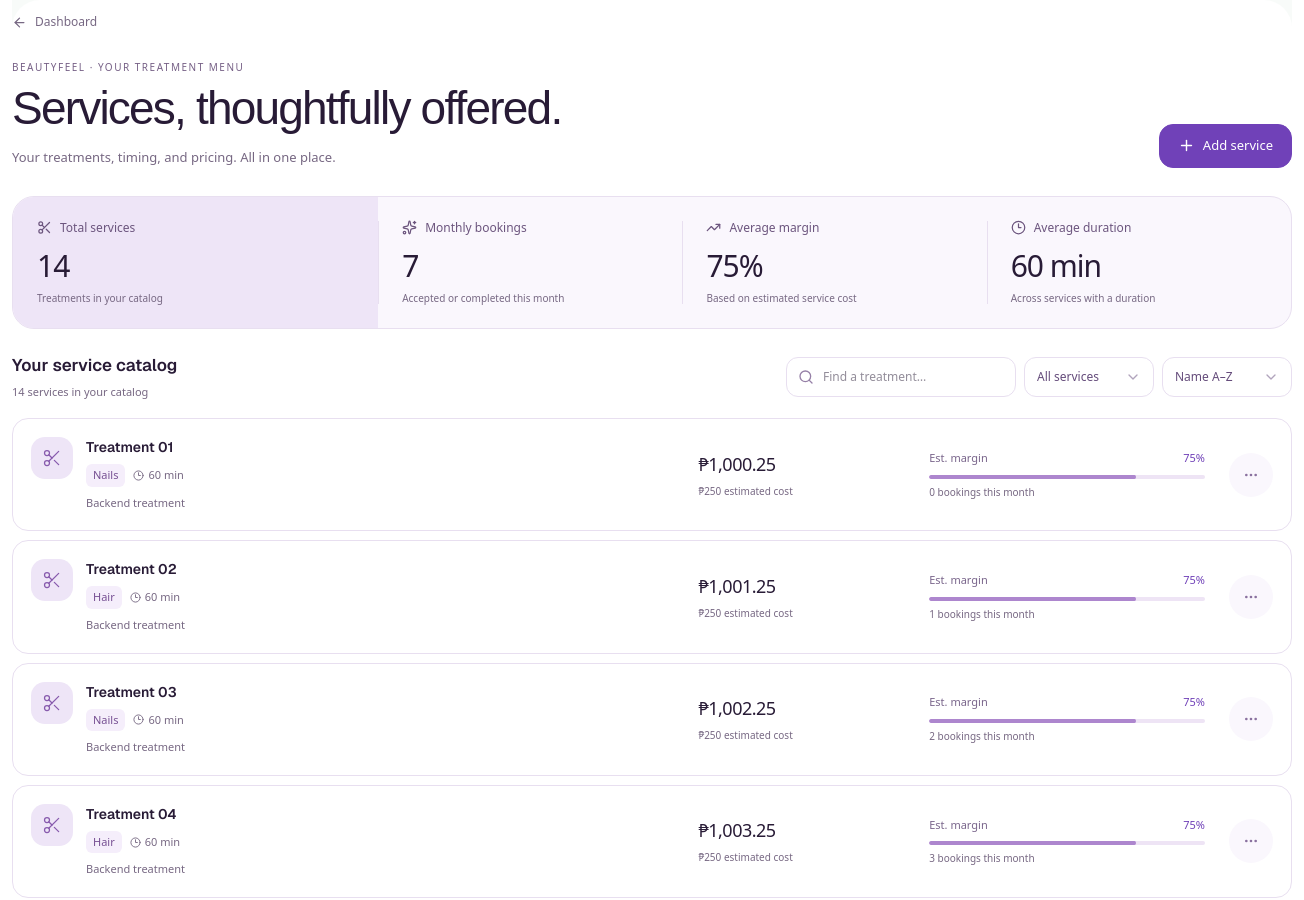
Scenario: redesign services catalog › searches the complete catalog and offers a recoverable empty state
Type "Treatment 14" into the field named "Search services". click: (901, 377)
box: 786,357 -> 1016,397
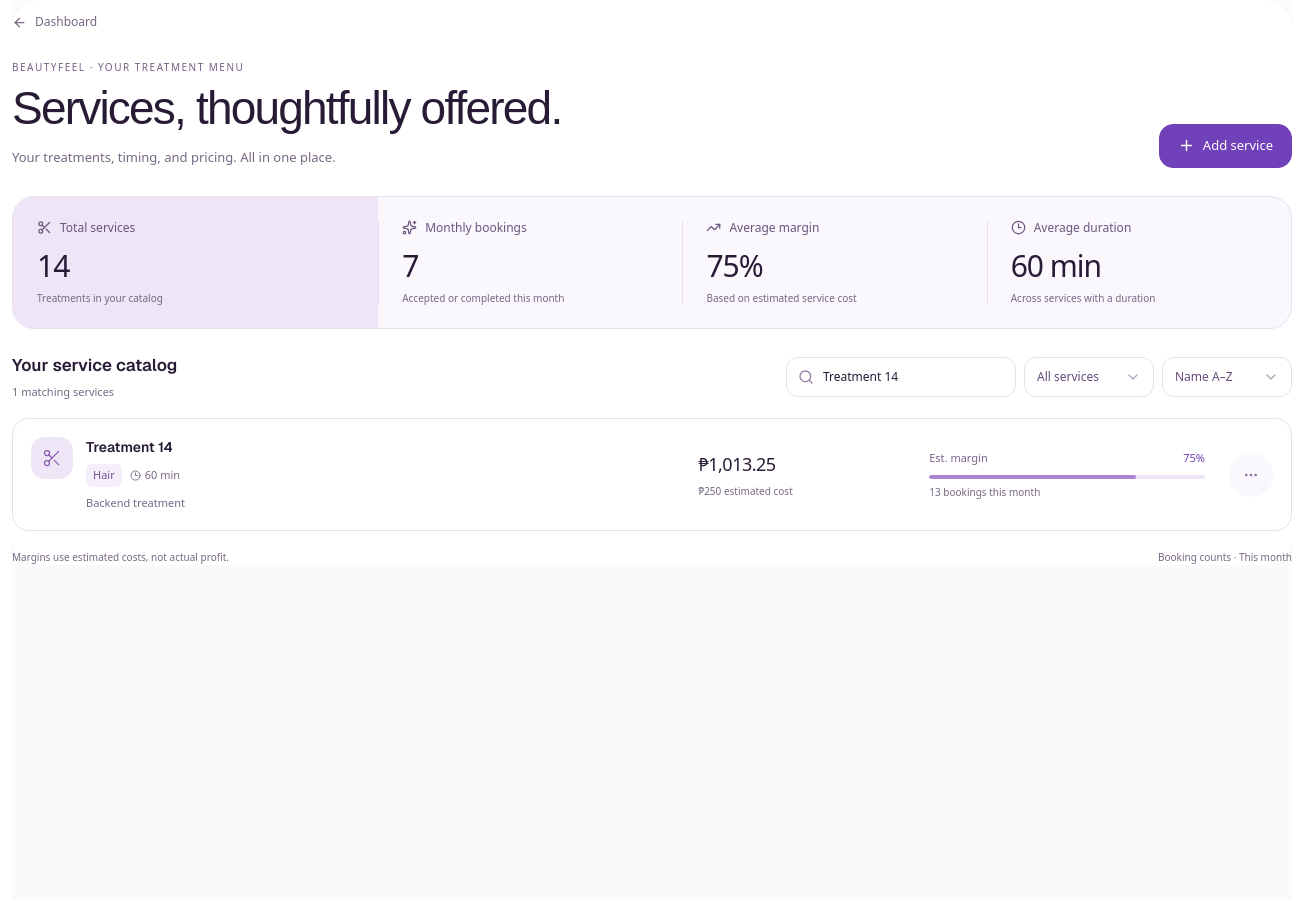
Expected: the number of list items is 1, 12,418 -> 1292,531
Expected: the heading "Treatment 14" is shown, 86,437 -> 185,458
Replace the text in the field named "Search services" with "not-found". click: (901, 377)
box: 786,357 -> 1016,397
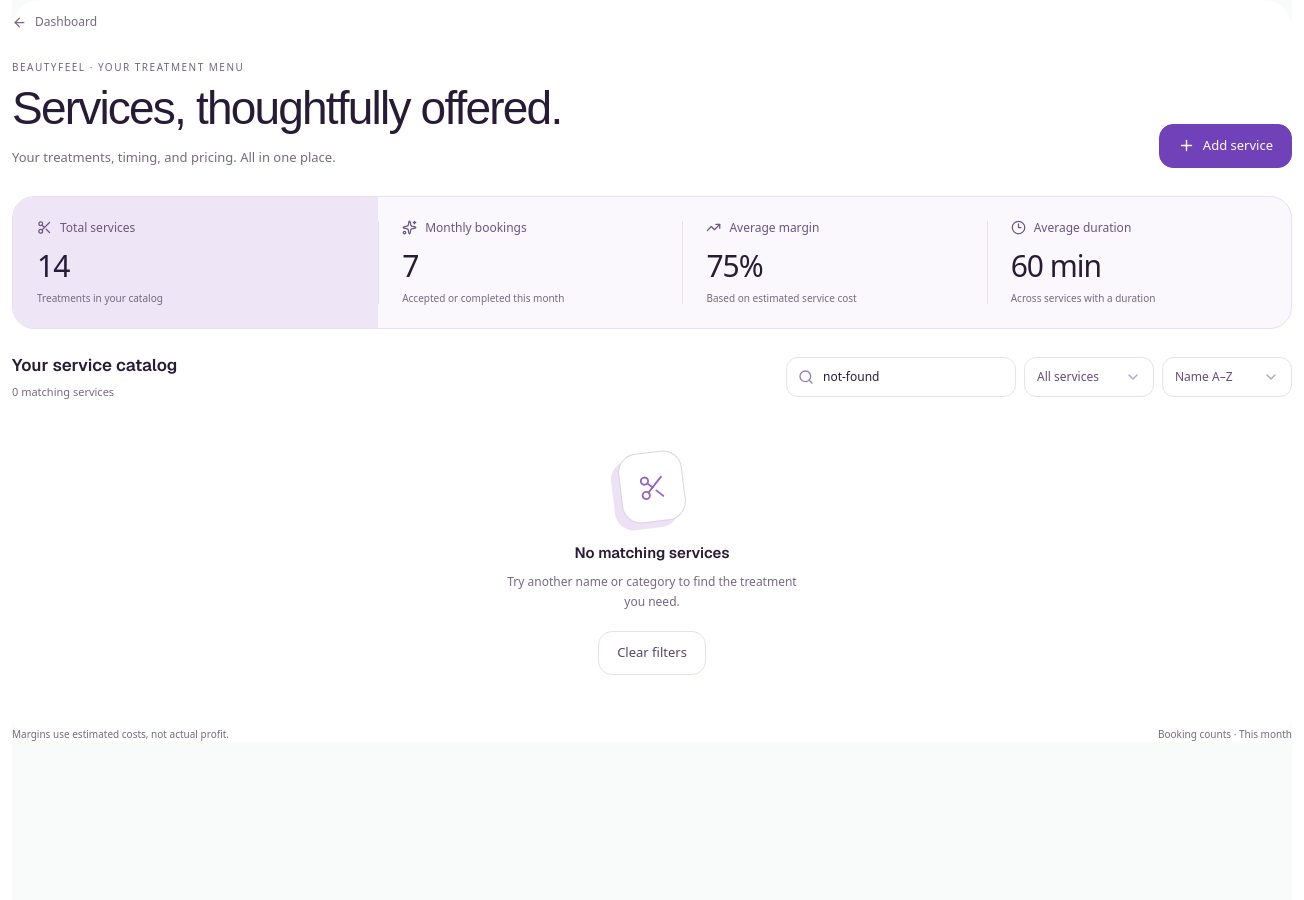
Expected: the heading "No matching services" is shown, 574,542 -> 730,562
Click the button "Clear filters". click: (652, 653)
box: 598,631 -> 706,675
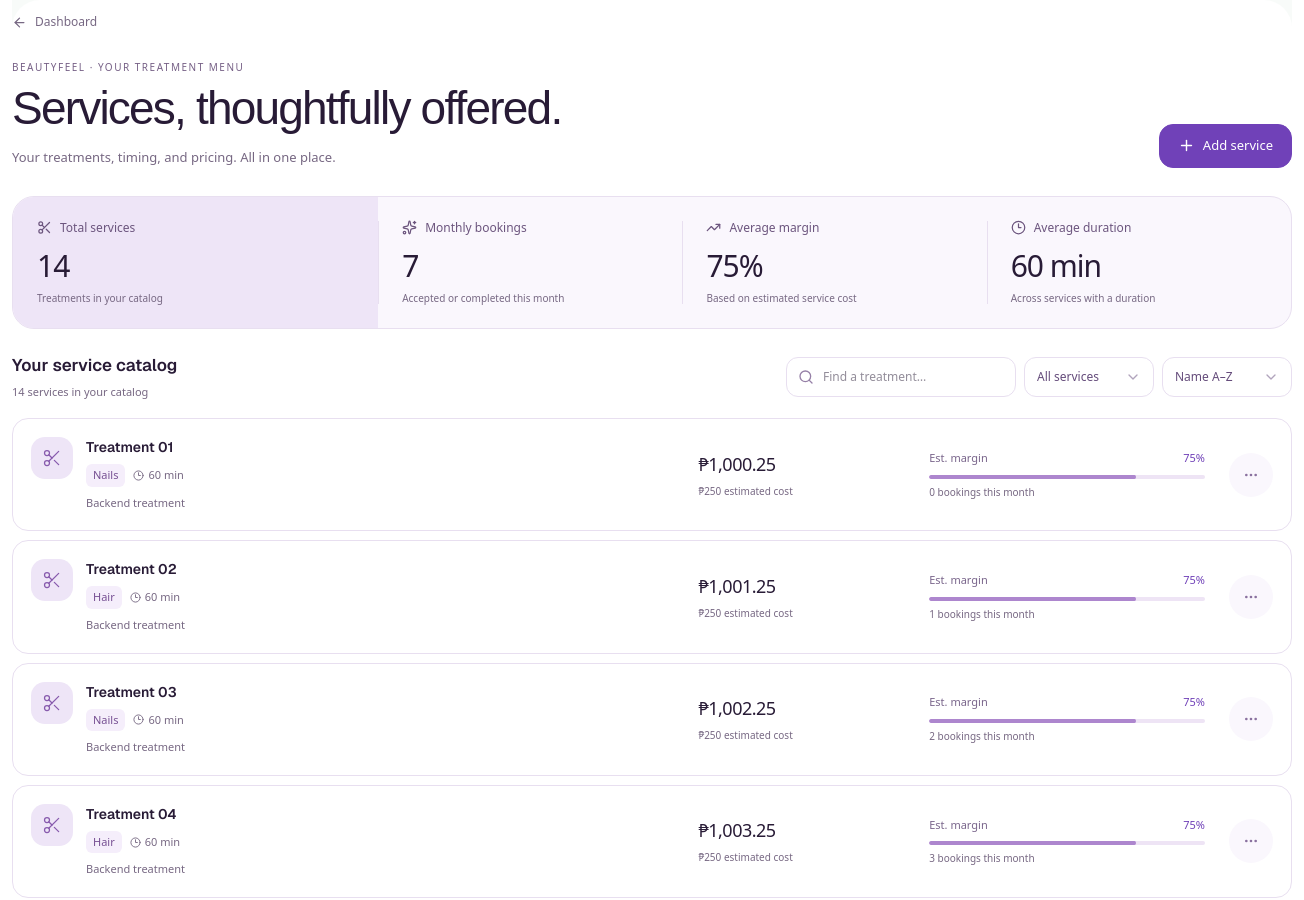
Expected: the number of list items is 12
